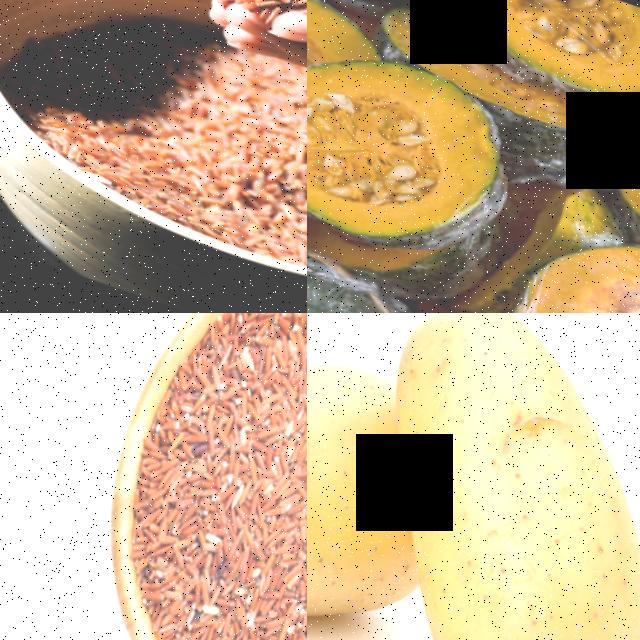potato: (307, 313, 640, 640), (307, 313, 397, 640)
pumpkin: (307, 24, 527, 278), (432, 0, 640, 113), (489, 203, 640, 313)
red rice: (83, 313, 307, 640), (134, 37, 307, 294)
